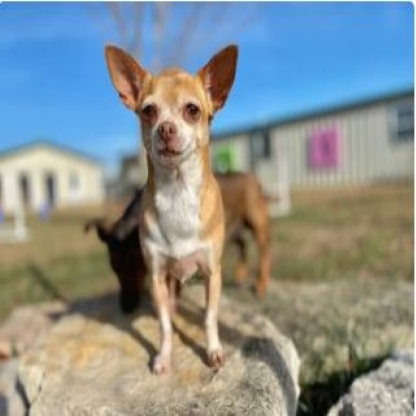chihuahua: (104, 38, 242, 374)
